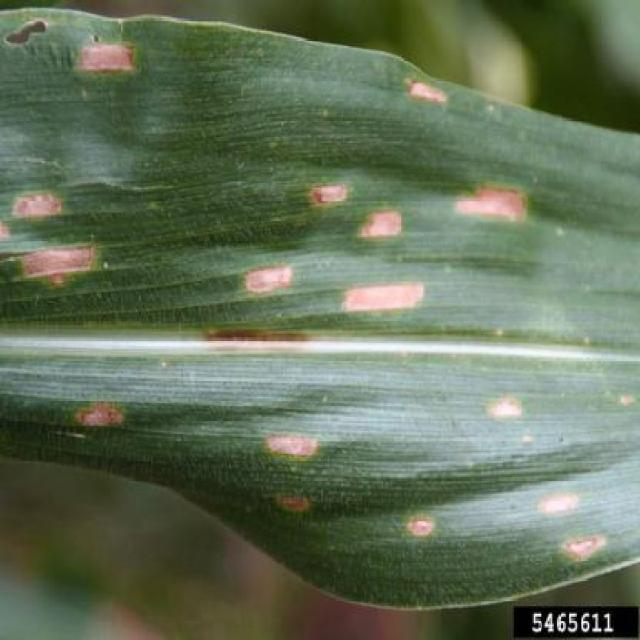Corn_Grey_Leaf_Spot: (0, 11, 640, 591)
